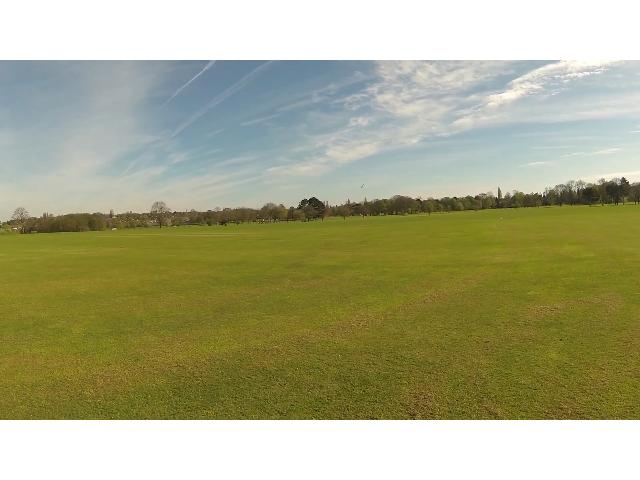Anti-Drone: (359, 180, 367, 190)
